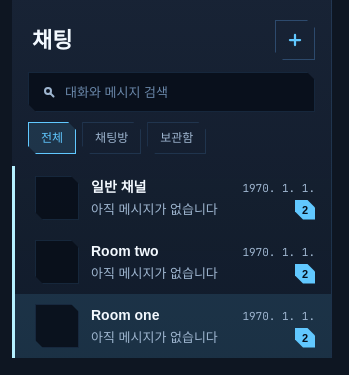
Scenario: ChatListColumn context menu › keeps focus on the search field clicked outside the menu
Right-click the button with test id "chat-list-row" that starts with "Room two" at (57, 262), box [12,230,331,294]
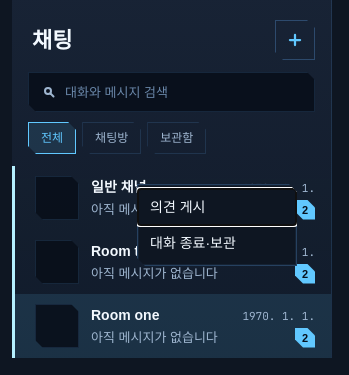
Expected: the menu is shown, [137,184,297,266]
Click the search field with test id "chat-list-search". click: (184, 92)
box: [65,82,302,102]
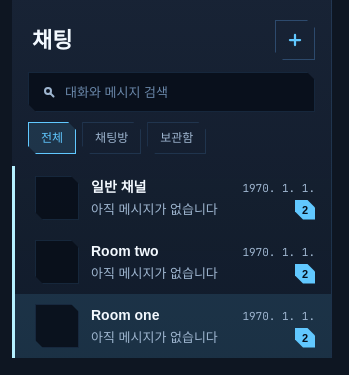
Expected: the menu is gone
